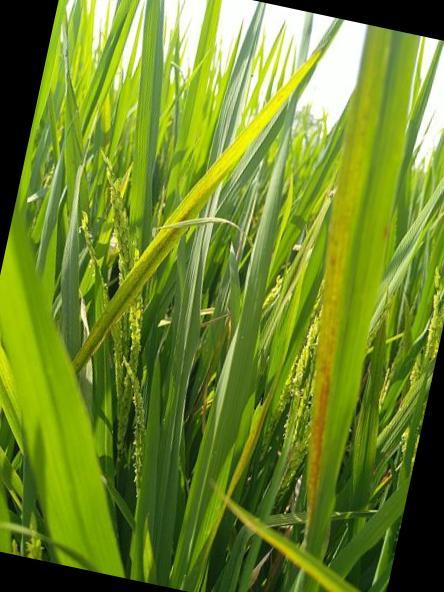Leaf Streak: (304, 25, 392, 503), (71, 145, 246, 374)
